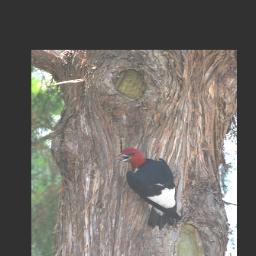Woodpecker: (112, 145, 187, 230)
